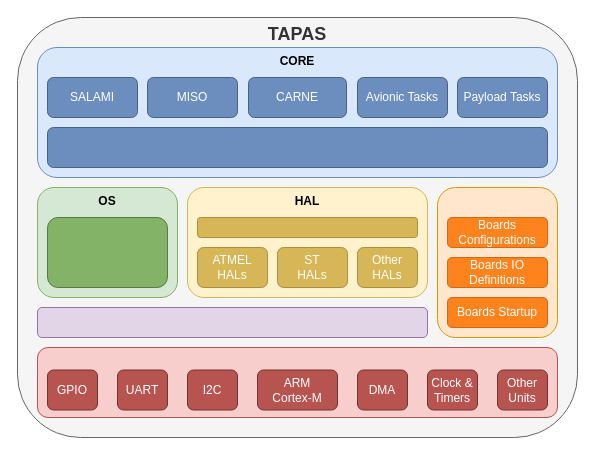
Image size: 595x455. Some labels were removed from this diagram. The shapes that lost their labels are listed below. From the top down, each one's box as (x1, y1, x2, y2) in pixels, then its label:
(46, 126, 548, 168): Main
(196, 216, 418, 238): TOLOSAT HAL
(46, 216, 168, 288): FreeRTOS
(436, 186, 558, 338): BSP
(36, 306, 428, 338): CMSIS
(36, 346, 558, 418): HARDWARE
